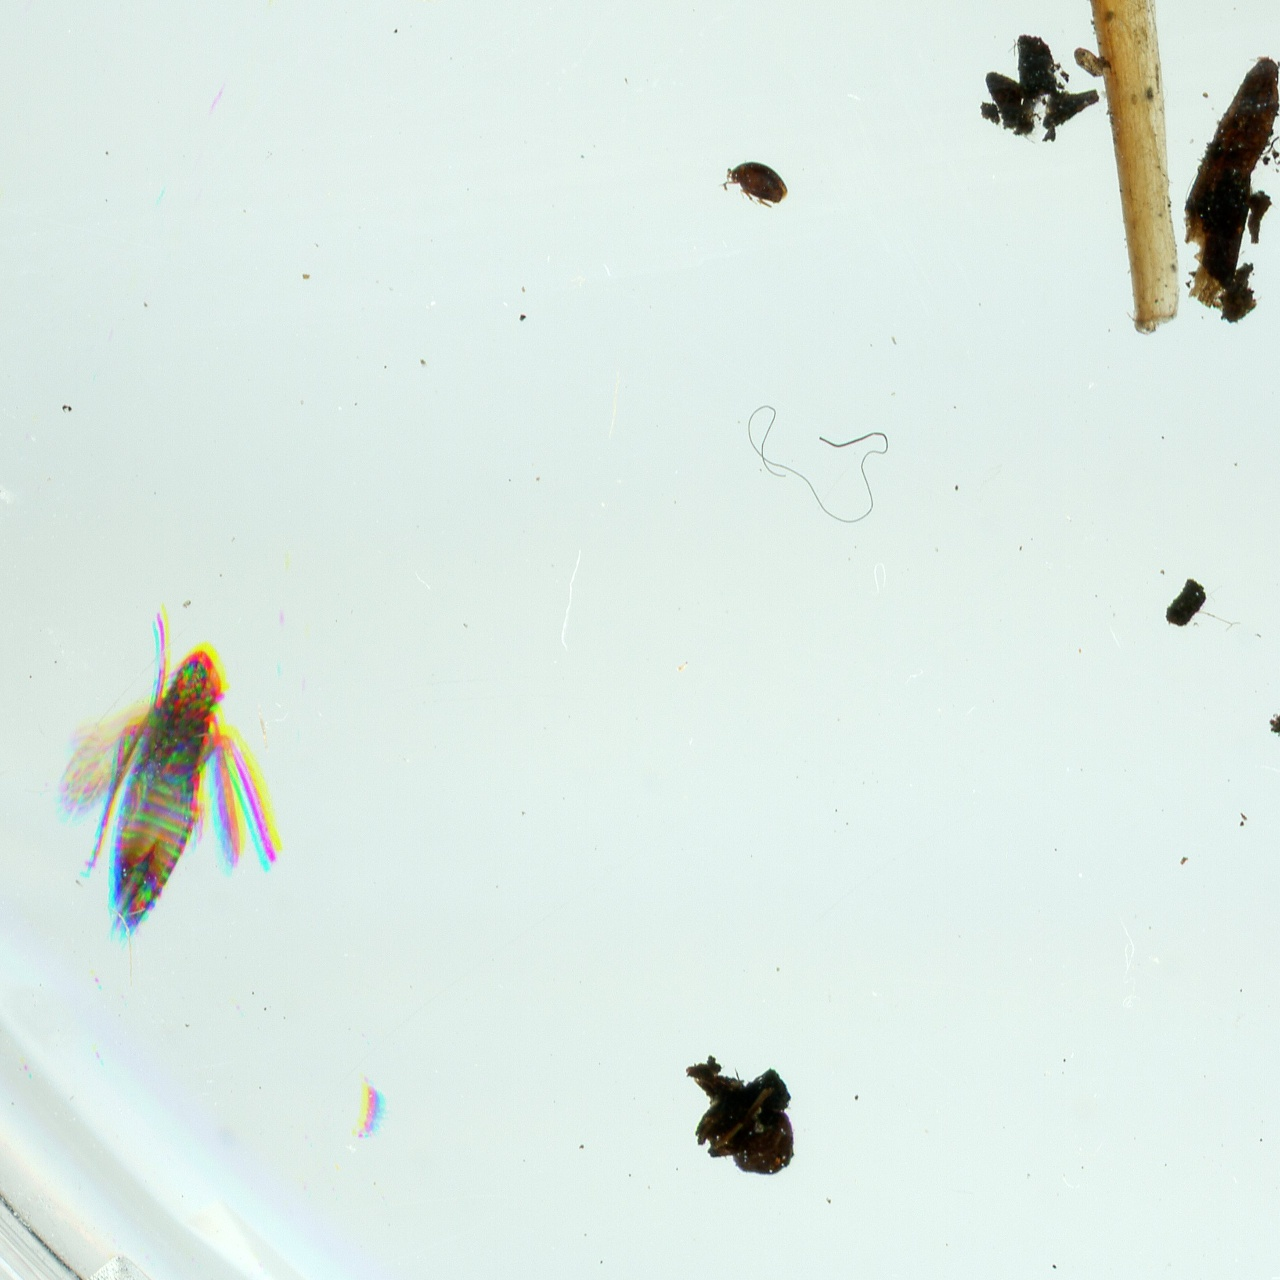arthropod: (44, 608, 293, 948), (719, 160, 793, 211), (355, 1067, 390, 1149)
